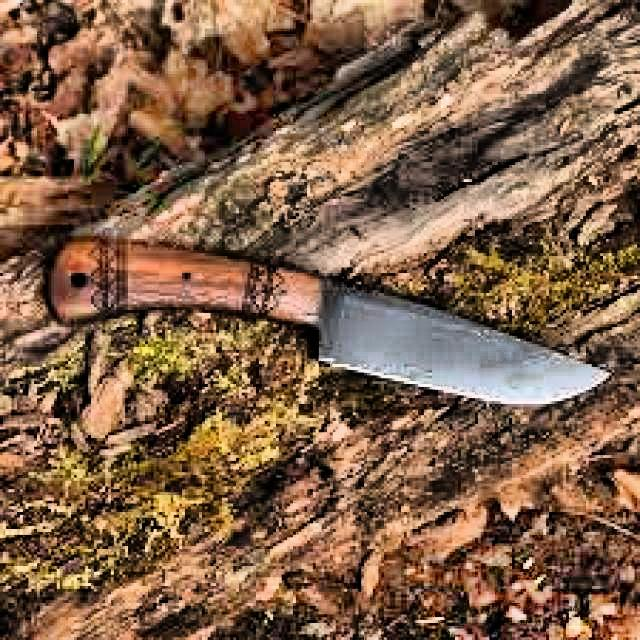knife: (40, 228, 622, 410)
